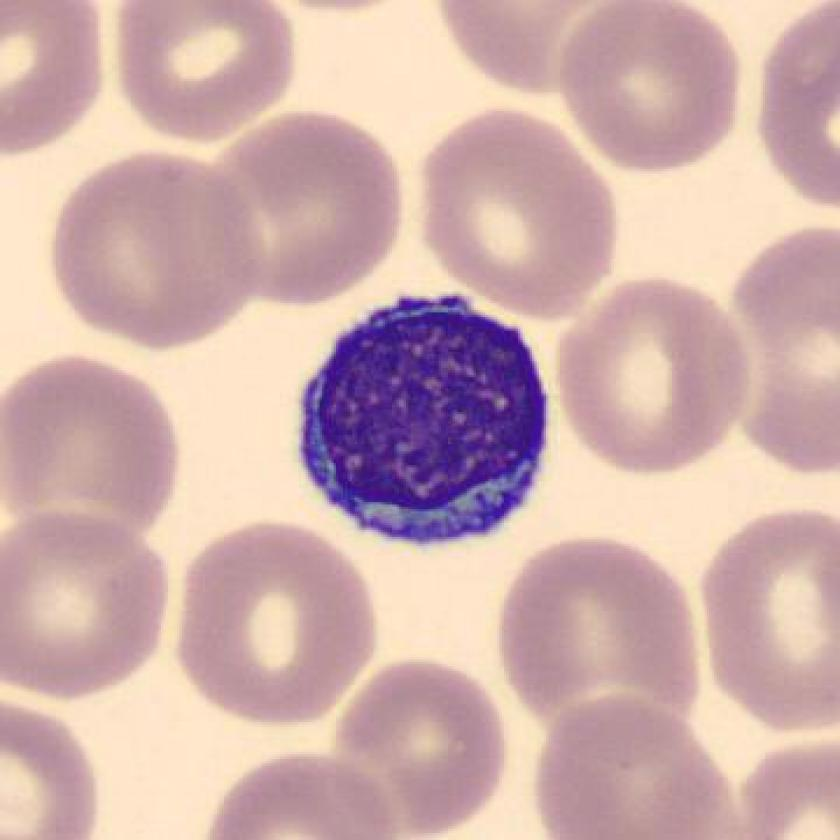lymphocyte: (288, 286, 563, 556)
